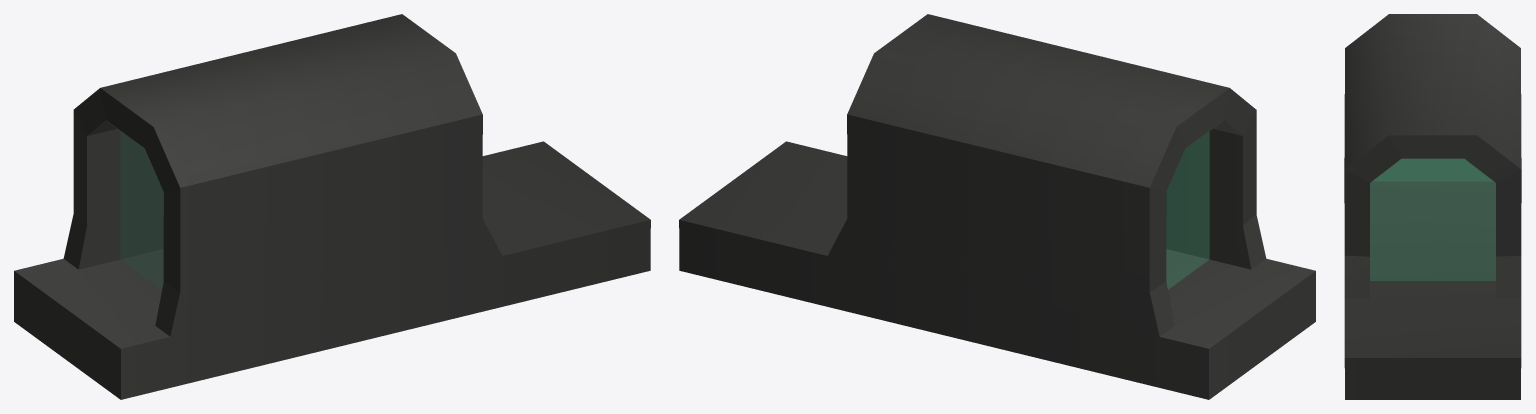
File: Holo_mesh.fbx
3 renders of one model, left to right at view 1: azimuth 30°, elevation 25°; view 2: azimuth 150°, elevation 25°; view 3: azimuth 270°, elevation 25°, orthographic. The views are drawn at different scales.
Parts seen in each view (by area): view 1: Holo_mesh; view 2: Holo_mesh; view 3: Holo_mesh.
Boxes of the visible parts, bbox=[...] form: Holo_mesh: bbox=[14, 14, 650, 399]; Holo_mesh: bbox=[679, 14, 1315, 399]; Holo_mesh: bbox=[1344, 14, 1521, 399].
Size of the model in its own units: 9.71 by 4.19 by 3.41.
2 materials, 1 textured.
